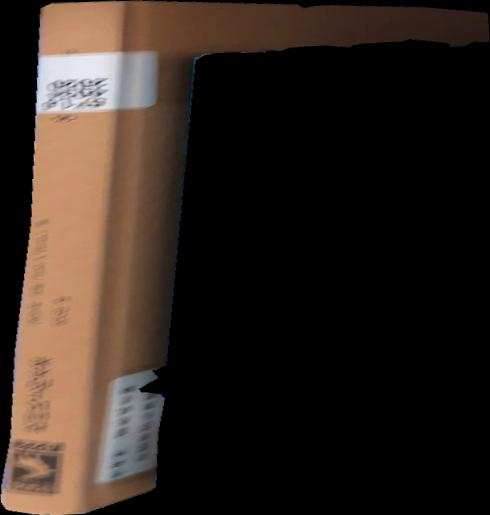reverse: (1, 1, 490, 515)
